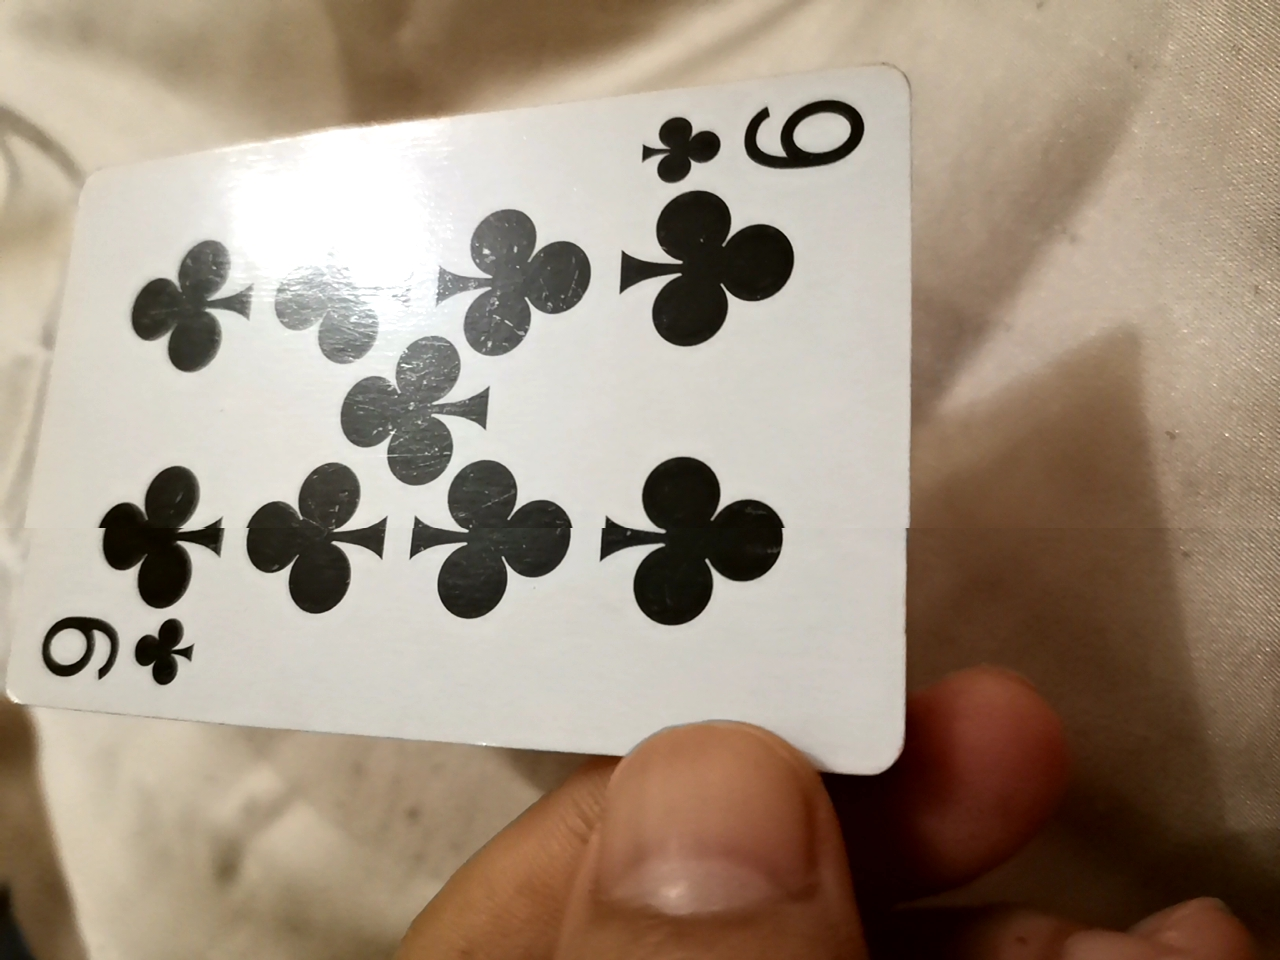mh 9: (1, 61, 937, 784)
